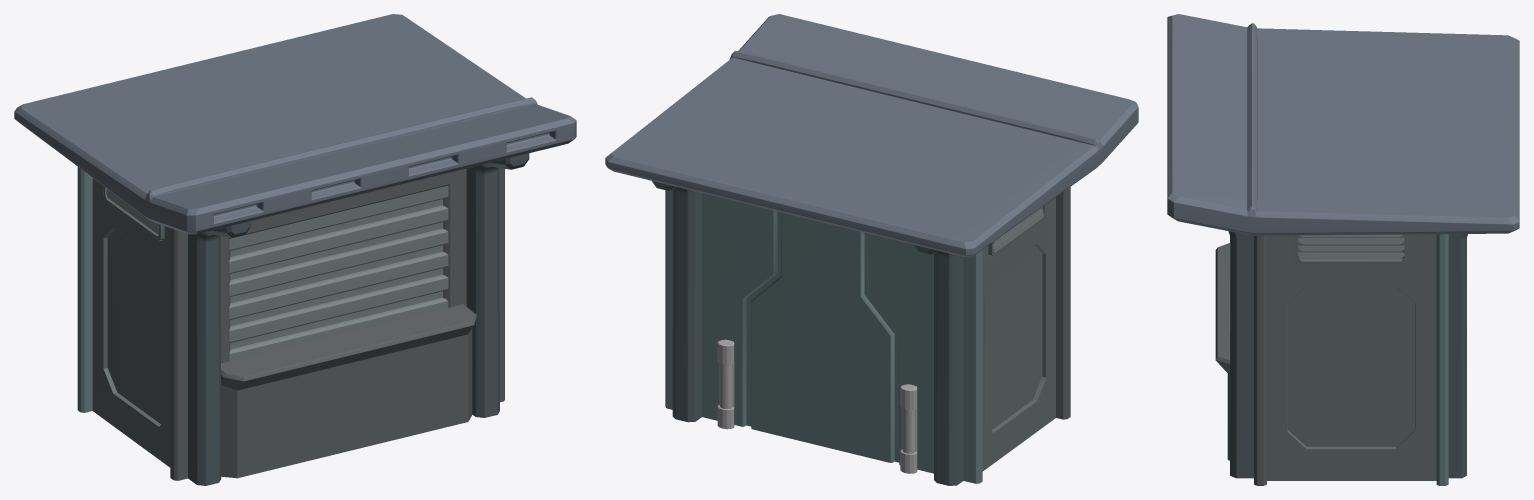
File: storeStand_SandyBlue.fbx
The picture shows the model from 3 angles, left to right: view 1: azimuth 30°, elevation 25°; view 2: azimuth 150°, elevation 25°; view 3: azimuth 270°, elevation 25°; orthographic projection. The views are drawn at different scales.
Visible parts, largest first — view 1: storeStall; view 2: storeStall; view 3: storeStall.
Boxes of the visible parts, left/top/right/bottom form: storeStall: left=14, top=14, right=576, bottom=485; storeStall: left=605, top=14, right=1138, bottom=485; storeStall: left=1167, top=14, right=1519, bottom=485.
Bounding box in the file's own units: 364 × 275 × 290.
